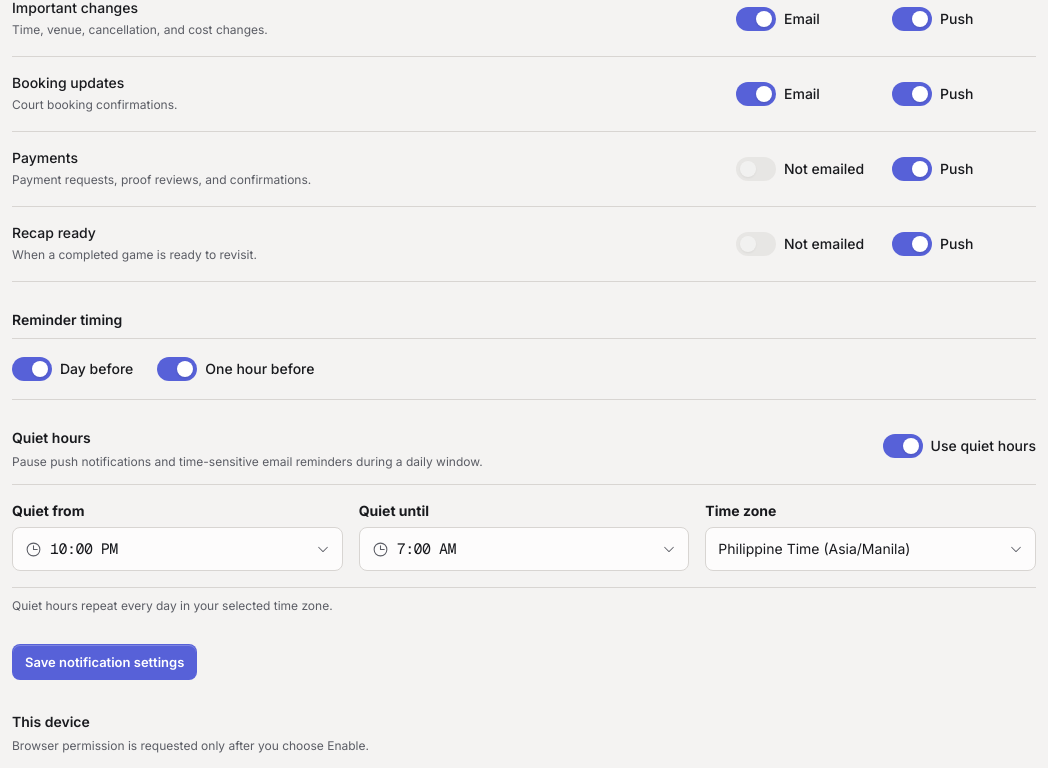
Test: NotificationSettingsForm › keeps quiet-hour controls visible while allowing the window to be disabled
This screenshot has width=1048, height=768.
(page scrolled)
What coordinates should you click on to do the following:
click the switch labelled "Use quiet hours"
I would click on:
 (959, 446)
Its box is [883,428,1036,464].
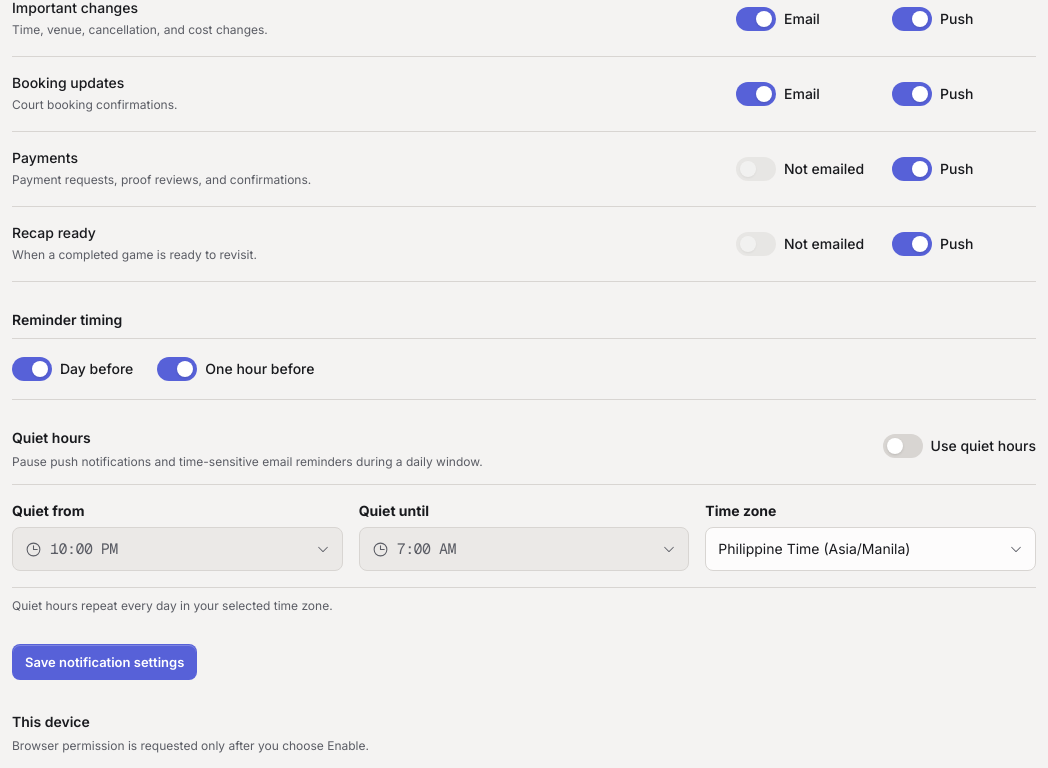
expect the button named "Time zone" is enabled: met, box [705,527,1036,571]
expect the button named "Quiet from" is disabled: met, box [12,527,343,571]
expect the button named "Quiet until" is disabled: met, box [359,527,689,571]
